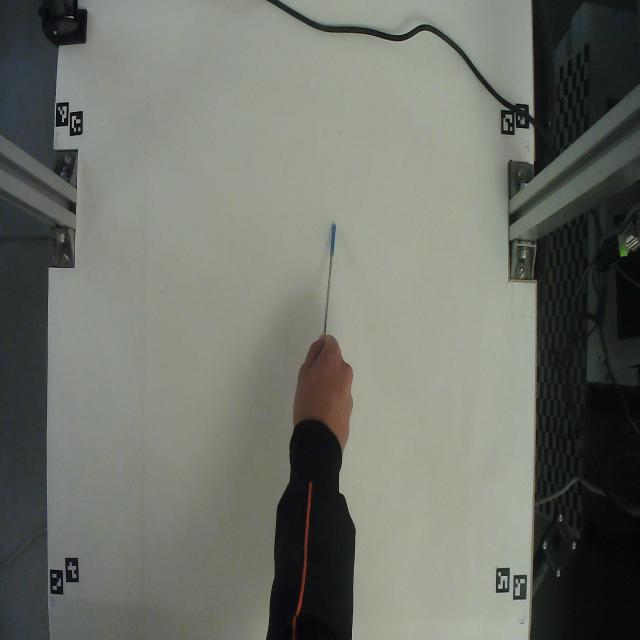Pres: (306, 202, 346, 348)
